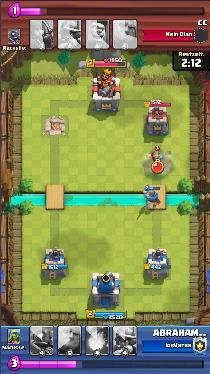ally_knight: (143, 187, 160, 208)
enemy_knight: (147, 150, 165, 170)
